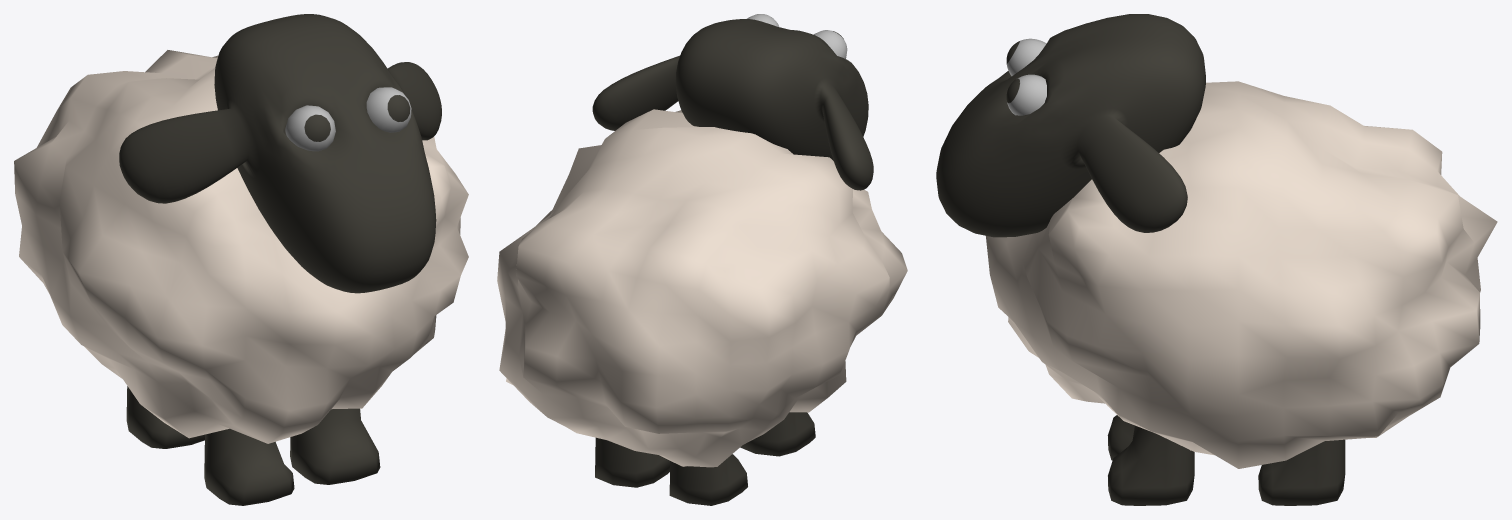
The model's file is Obeja.fbx.
3 renders of one model, left to right at view 1: azimuth 30°, elevation 25°; view 2: azimuth 150°, elevation 25°; view 3: azimuth 270°, elevation 25°, orthographic. The views are drawn at different scales.
Visible parts, largest first — view 1: Cube.017; view 2: Cube.017; view 3: Cube.017.
Boxes of the visible parts, x1,y1,x2,y2 form: Cube.017: (14, 14, 468, 505); Cube.017: (497, 14, 907, 505); Cube.017: (936, 14, 1497, 505).
Bounding box in the file's own units: 0.7783 × 0.8933 × 1.03.
3 materials, 1 textured.
